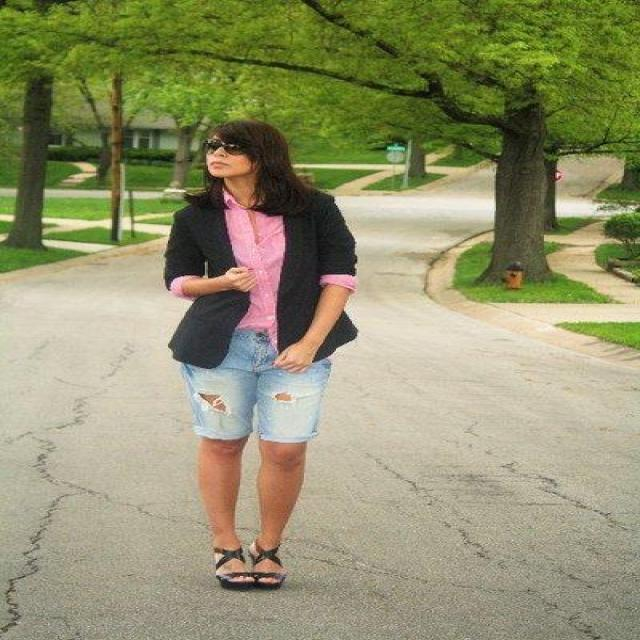jacket: (163, 192, 357, 368)
shirt: (224, 204, 283, 342)
shoe: (203, 550, 280, 591)
shorts: (182, 323, 338, 442)
